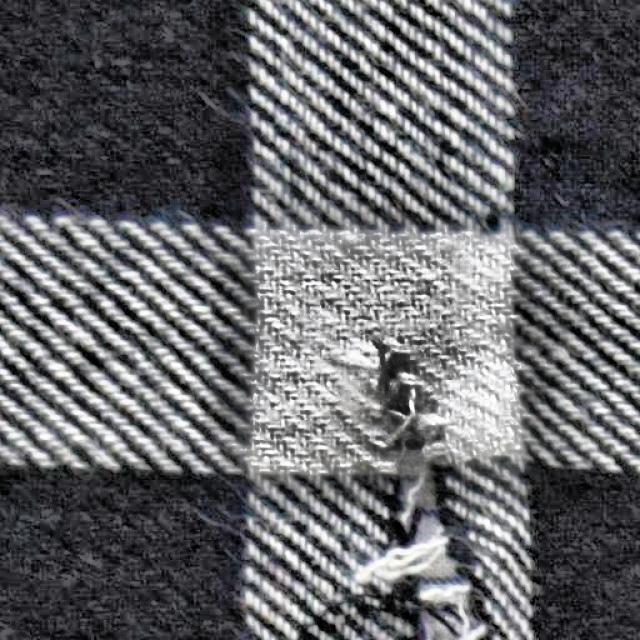Stitch: (359, 341, 490, 639)
